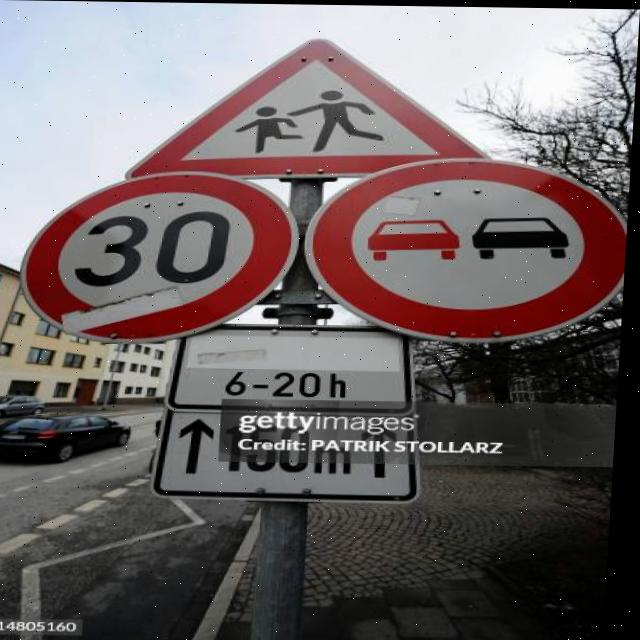Speed limit 30: (18, 168, 306, 346)
